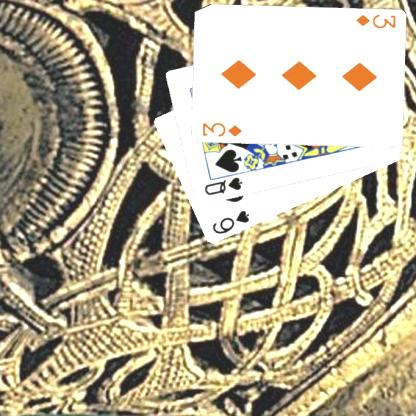3D: (199, 120, 243, 139), (352, 12, 396, 30)
6S: (209, 207, 251, 236)
QS: (201, 174, 244, 197)
